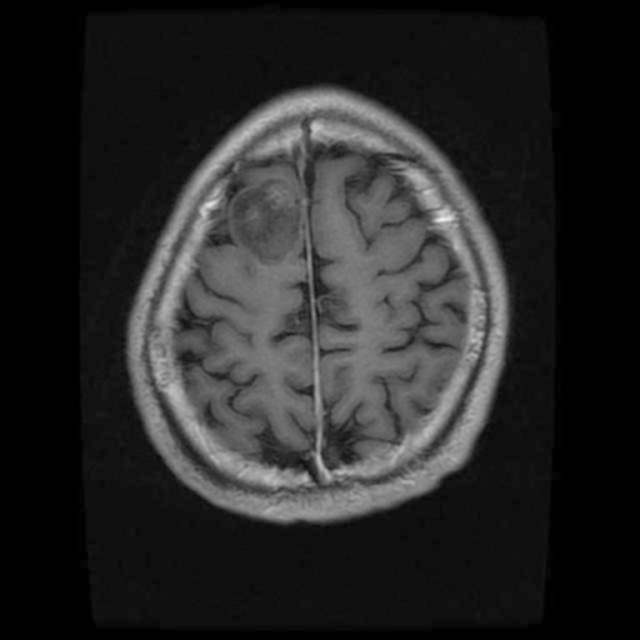pituitary tumor: (232, 180, 300, 259)
